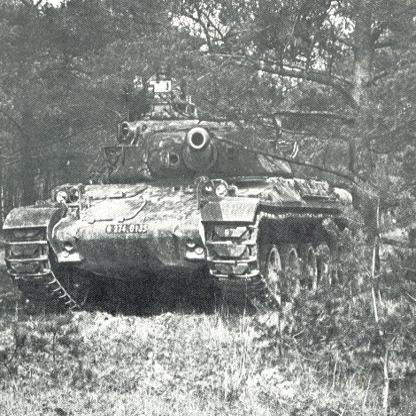Tank: (2, 72, 365, 329)
